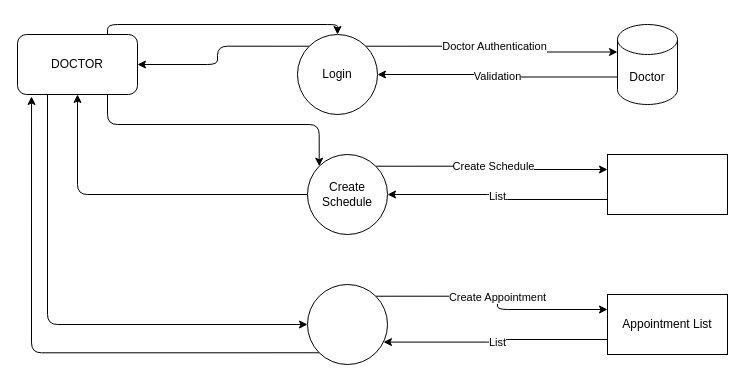
Some shapes in this 745 by 382 pixel diagram are drawn without their labels. The centre of each missing label's shape, as x and y in pixels:
"Schedule List" goes at (667,184).
"View Appointment" goes at (347,324).
